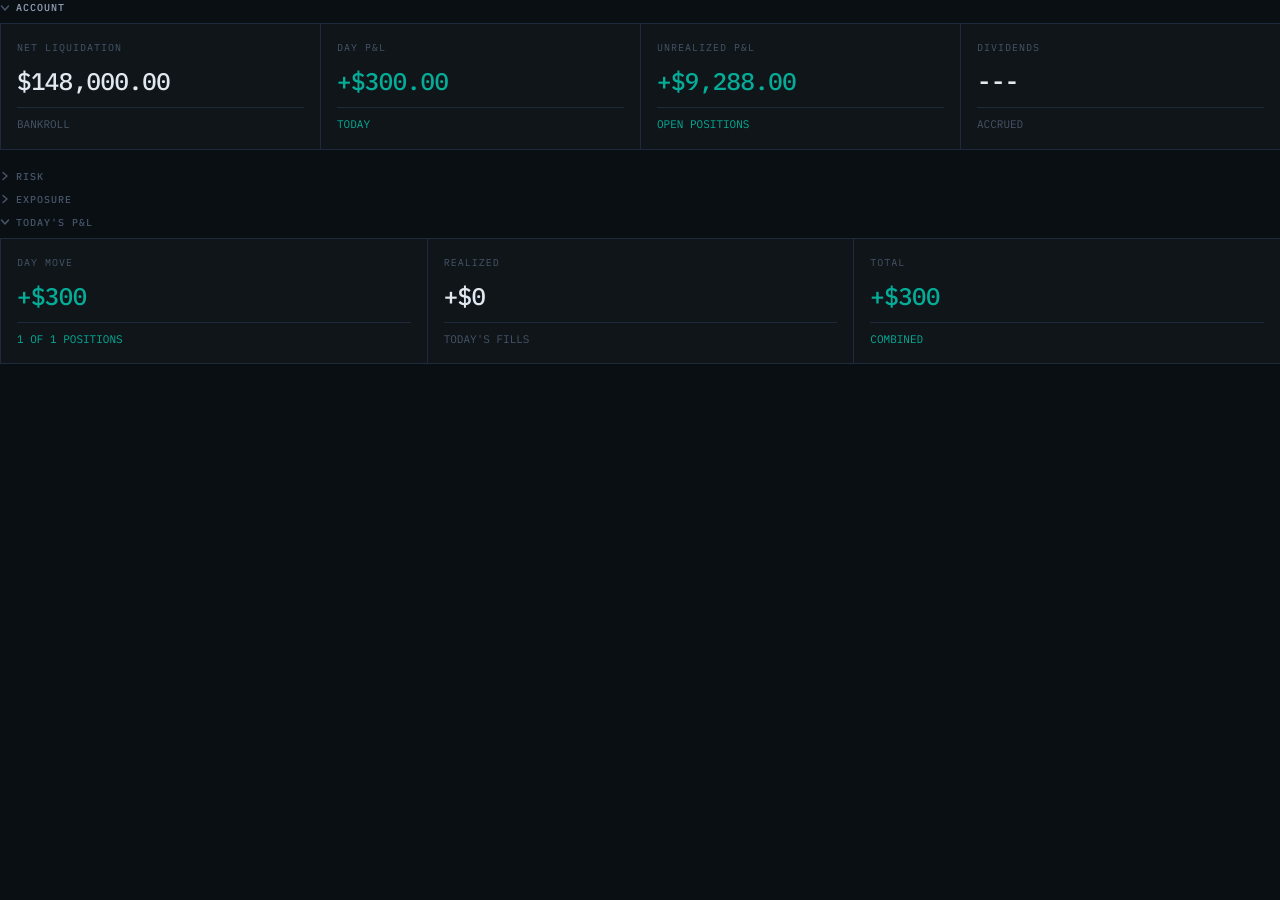
Test: MetricCards Futu account Day P&L › shows computed intraday day pnl instead of snapshot unrealized pnl and explains the live-price source
The image size is (1280, 900).
Expected: the element with class "metric-card" shows "+$300.00", [337, 65, 448, 97]
Expected: the element with class "metric-card" does not show "+$9,288.00"
Click the element with class "metric-card" showing "Day P&L +$300.00 TODAY" at (480, 86), box [320, 23, 641, 150]
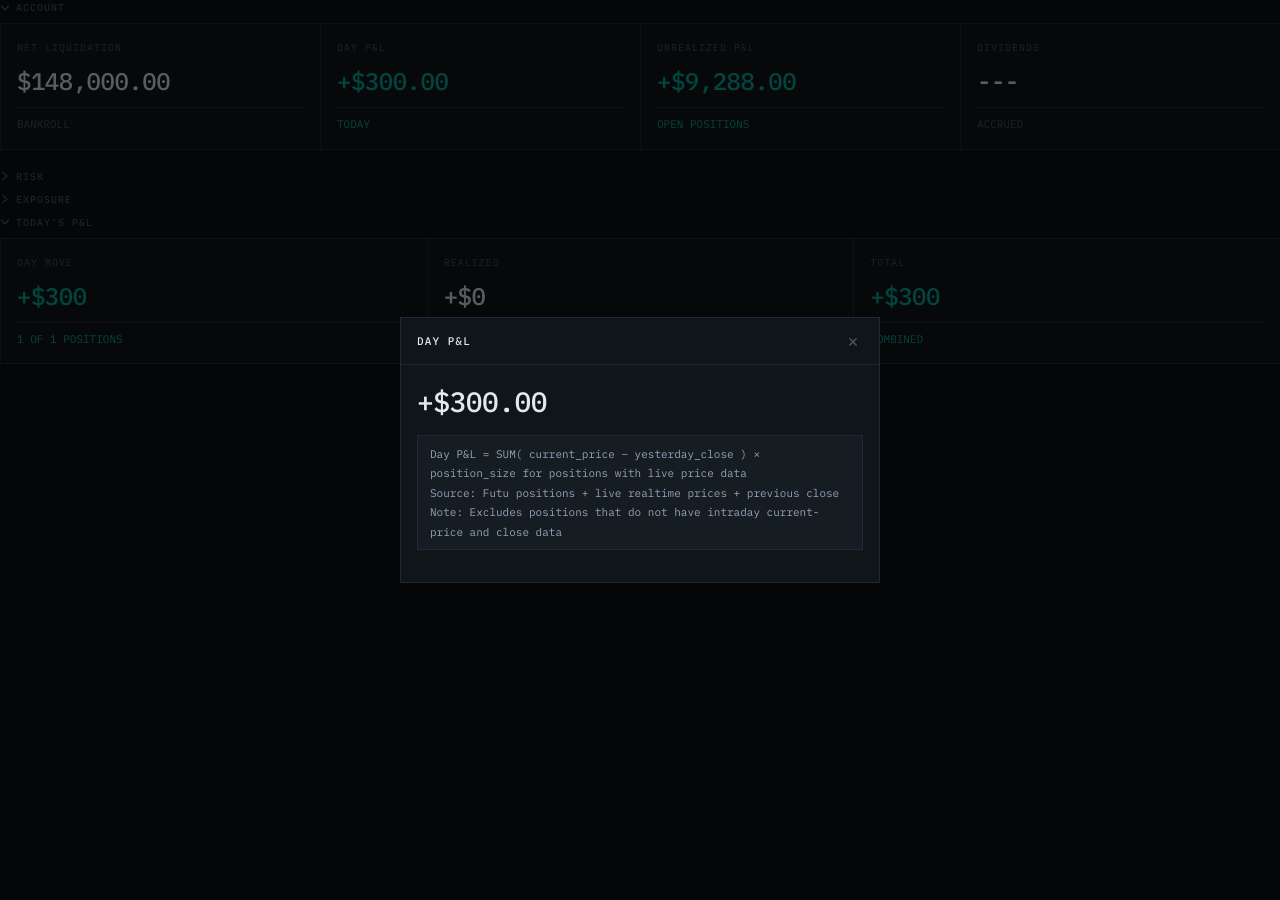
Now the dialog shows "+$300.00", box [417, 383, 547, 420]
Now the dialog shows "current_price", box [430, 447, 839, 539]
Now the dialog shows "Futu positions + live realtime prices", box [430, 447, 839, 539]
